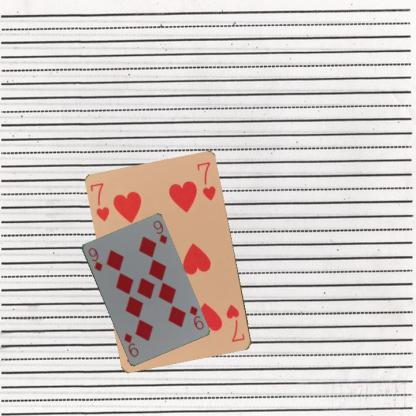7h: (88, 180, 111, 223), (224, 302, 246, 344)
9d: (86, 245, 104, 273), (186, 303, 204, 331)
